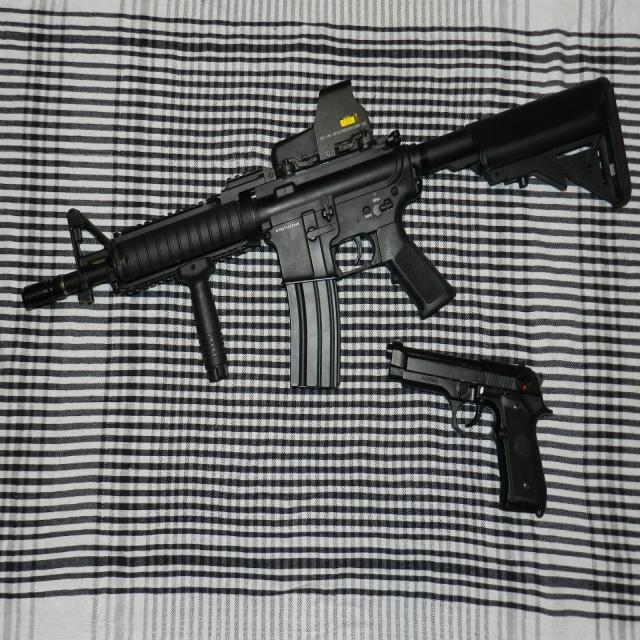firearm: (22, 75, 632, 392)
pistol: (387, 341, 552, 512)
